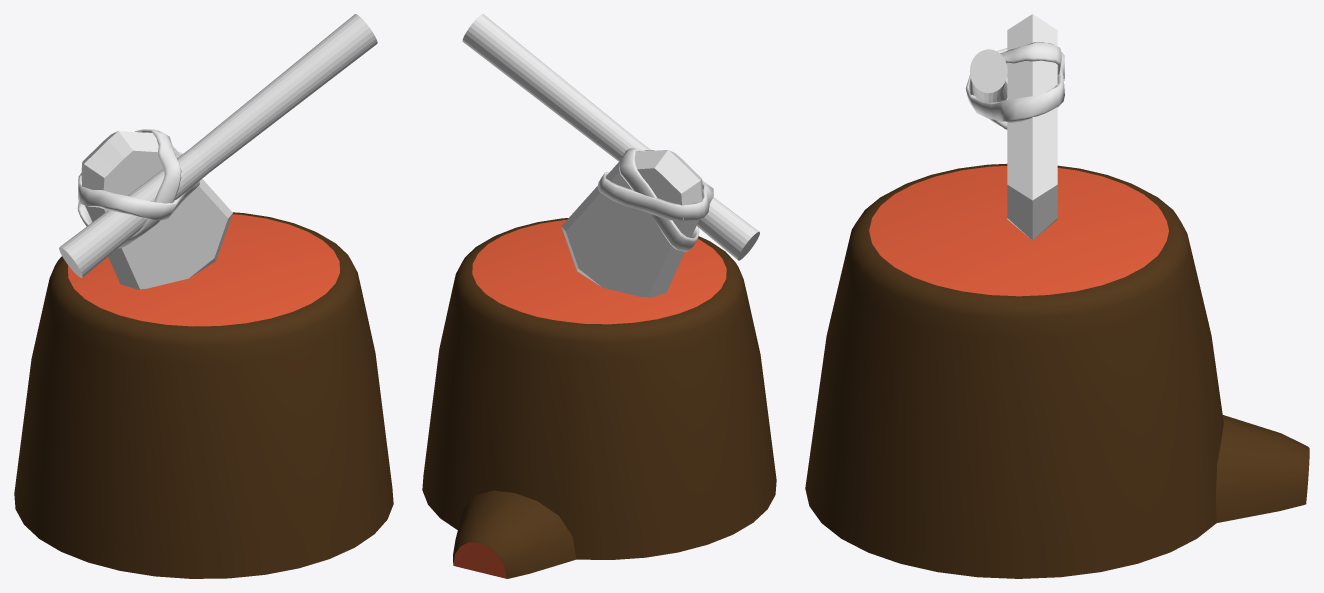
3 views of the same model, side by side, from view 1: azimuth 30°, elevation 25°; view 2: azimuth 150°, elevation 25°; view 3: azimuth 270°, elevation 25° (orthographic). The views are drawn at different scales.
Visible parts, largest first — view 1: Cylinder, Cylinder.001, Plane, Plane.001, Cube; view 2: Cylinder, Plane, Cylinder.001, Plane.001, Cube; view 3: Cylinder, Plane, Plane.001, Cylinder.001, Cube.
Part boxes in pixels (left/top/right/bottom): Cylinder: left=14, top=212, right=393, bottom=578; Cylinder.001: left=59, top=14, right=377, bottom=277; Plane: left=81, top=131, right=232, bottom=289; Plane.001: left=78, top=151, right=199, bottom=220; Cube: left=77, top=129, right=181, bottom=248; Cylinder: left=422, top=218, right=776, bottom=578; Plane: left=561, top=150, right=702, bottom=298; Cylinder.001: left=462, top=14, right=759, bottom=260; Plane.001: left=597, top=172, right=713, bottom=221; Cube: left=619, top=148, right=699, bottom=251; Cylinder: left=805, top=164, right=1309, bottom=578; Plane: left=1007, top=14, right=1057, bottom=240; Plane.001: left=965, top=48, right=1064, bottom=122; Cylinder.001: left=969, top=49, right=1007, bottom=102; Cube: left=969, top=42, right=1061, bottom=129.
Bounding box in the file's own units: 126 × 168 × 149.
